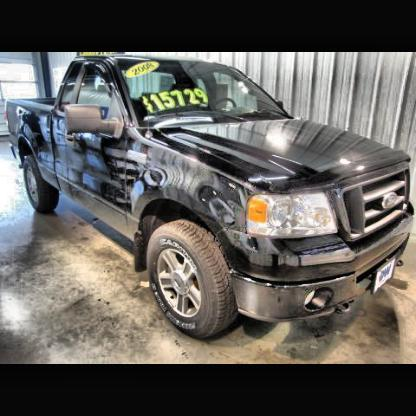Ford F-150 Regular Cab 2007: (2, 54, 414, 343)
